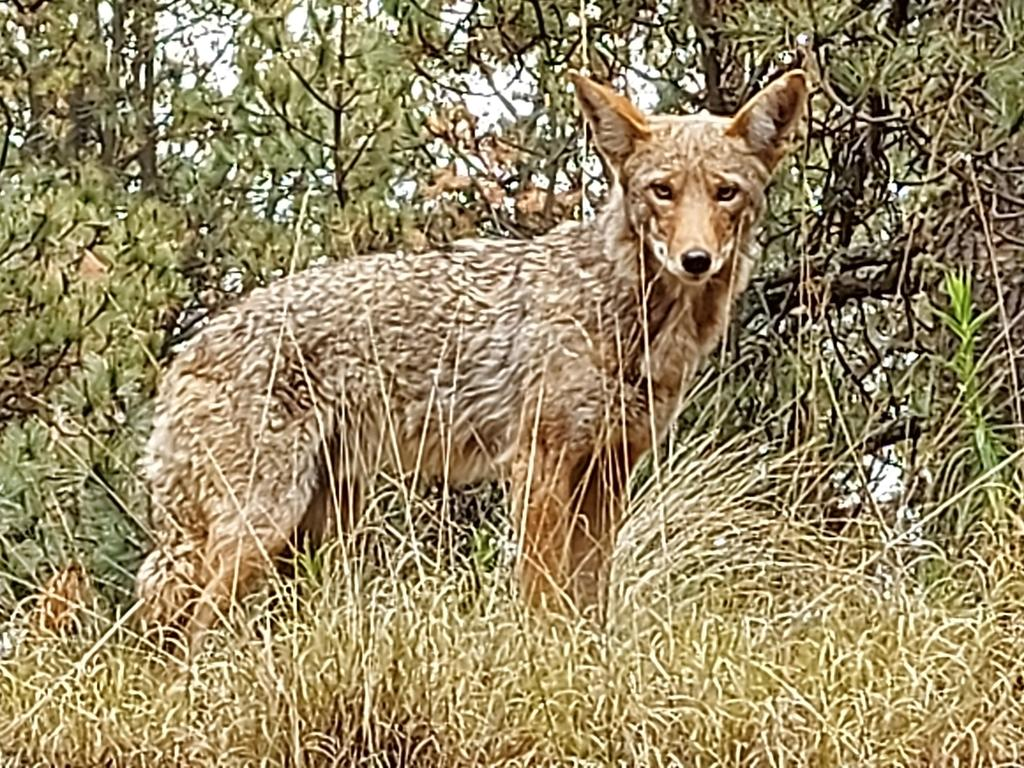Coyote: (129, 64, 813, 671)
